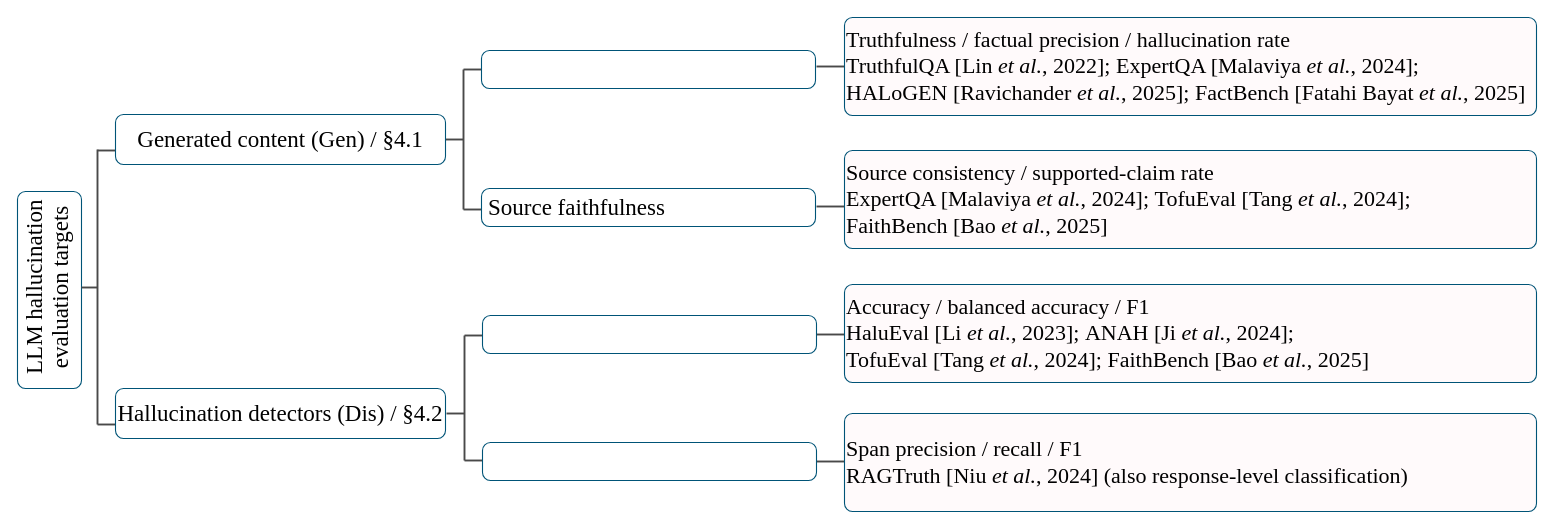
The diagram is 1555 pixels wide and 530 high, and some of its shapes have lost their labels. Here are the shapes that lost their labels. From the top down, the centre of each, then its label:
At (648,69): "World factuality".
At (649,334): "Response / sentence classification".
At (649,461): "Error-span localization".
